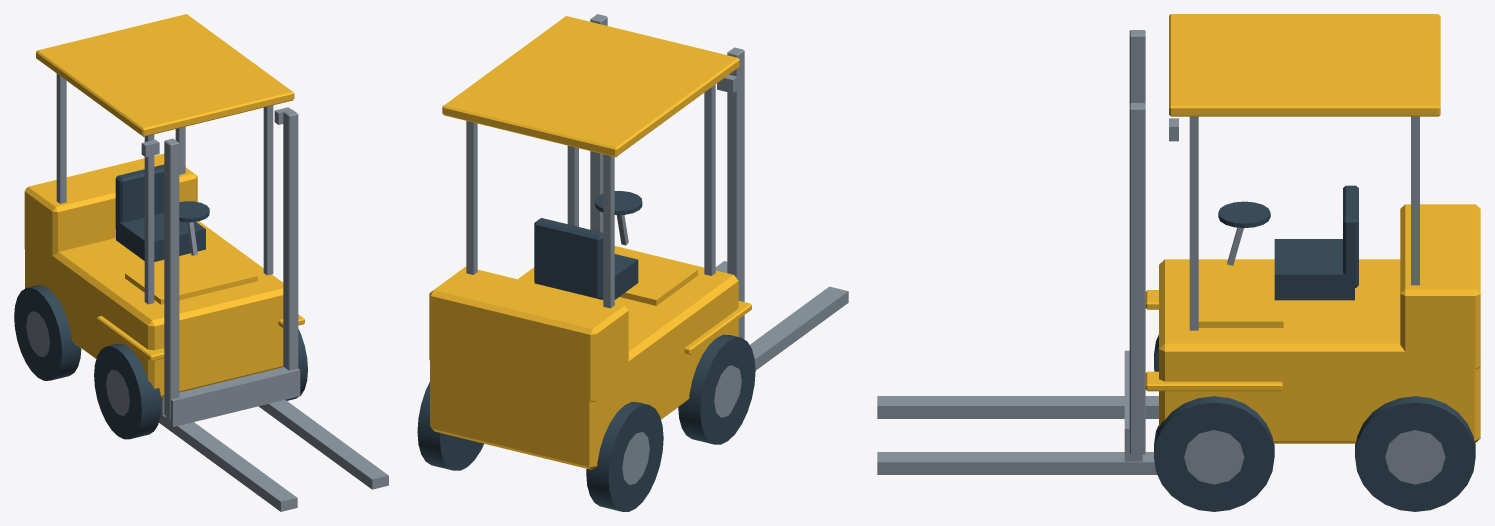
File: forklift.v1.glb
3 renders of one model, left to right at view 1: azimuth 30°, elevation 25°; view 2: azimuth 150°, elevation 25°; view 3: azimuth 270°, elevation 25°, orthographic. The views are drawn at different scales.
Parts seen in each view (by area): view 1: mesh_chassis, mesh_roof, mesh_counterweight, mesh_carriage, mesh_mast_-0.43, mesh_mast_0.43, mesh_wheel_-0.53_0.1, mesh_wheel_-0.53_-0.9, mesh_footrest, mesh_fork_-0.33, mesh_fork_0.33, mesh_seat (+9 smaller); view 2: mesh_chassis, mesh_roof, mesh_counterweight, mesh_wheel_-0.53_0.1, mesh_wheel_-0.53_-0.9, mesh_seat_back, mesh_mast_-0.43, mesh_fork_-0.33, mesh_wheel_0.53_-0.9, mesh_footrest, mesh_cab_post_-0.43_0.2, mesh_cab_post_-0.43_-0.9 (+8 smaller); view 3: mesh_chassis, mesh_roof, mesh_counterweight, mesh_wheel_0.53_0.1, mesh_wheel_0.53_-0.9, mesh_fork_0.33, mesh_fork_-0.33, mesh_mast_0.43, mesh_footrest, mesh_seat, mesh_hub_0.53_0.1, mesh_hub_0.53_-0.9 (+7 smaller).
Part boxes in pixels (bbox=[...]): mesh_chassis: bbox=[25, 221, 283, 397]; mesh_roof: bbox=[36, 14, 294, 136]; mesh_counterweight: bbox=[24, 153, 197, 268]; mesh_carriage: bbox=[165, 367, 300, 426]; mesh_mast_-0.43: bbox=[164, 138, 179, 419]; mesh_mast_0.43: bbox=[283, 109, 298, 370]; mesh_wheel_-0.53_0.1: bbox=[94, 344, 161, 439]; mesh_wheel_-0.53_-0.9: bbox=[14, 285, 81, 380]; mesh_footrest: bbox=[125, 250, 257, 304]; mesh_fork_-0.33: bbox=[159, 414, 297, 511]; mesh_fork_0.33: bbox=[259, 400, 388, 489]; mesh_seat: bbox=[116, 213, 205, 261]; mesh_chassis: bbox=[430, 246, 738, 469]; mesh_roof: bbox=[442, 16, 739, 157]; mesh_counterweight: bbox=[429, 266, 628, 401]; mesh_wheel_-0.53_0.1: bbox=[678, 334, 755, 444]; mesh_wheel_-0.53_-0.9: bbox=[586, 402, 663, 511]; mesh_seat_back: bbox=[534, 218, 603, 298]; mesh_mast_-0.43: bbox=[727, 47, 744, 339]; mesh_fork_-0.33: bbox=[750, 286, 848, 370]; mesh_wheel_0.53_-0.9: bbox=[417, 382, 483, 470]; mesh_footrest: bbox=[614, 249, 697, 305]; mesh_cab_post_-0.43_0.2: bbox=[704, 84, 715, 275]; mesh_cab_post_-0.43_-0.9: bbox=[603, 154, 614, 308]; mesh_chassis: bbox=[1159, 259, 1480, 443]; mesh_roof: bbox=[1169, 14, 1440, 116]; mesh_counterweight: bbox=[1400, 204, 1480, 369]; mesh_wheel_0.53_0.1: bbox=[1154, 396, 1274, 511]; mesh_wheel_0.53_-0.9: bbox=[1355, 396, 1475, 511]; mesh_fork_0.33: bbox=[877, 452, 1157, 474]; mesh_fork_-0.33: bbox=[877, 396, 1158, 418]; mesh_mast_0.43: bbox=[1129, 103, 1145, 454]; mesh_footrest: bbox=[1198, 262, 1283, 327]; mesh_seat: bbox=[1274, 239, 1354, 300]; mesh_hub_0.53_0.1: bbox=[1184, 430, 1244, 484]; mesh_hub_0.53_-0.9: bbox=[1385, 430, 1445, 484].
Size of the model in its own units: 1.2 by 2.2 by 3.
